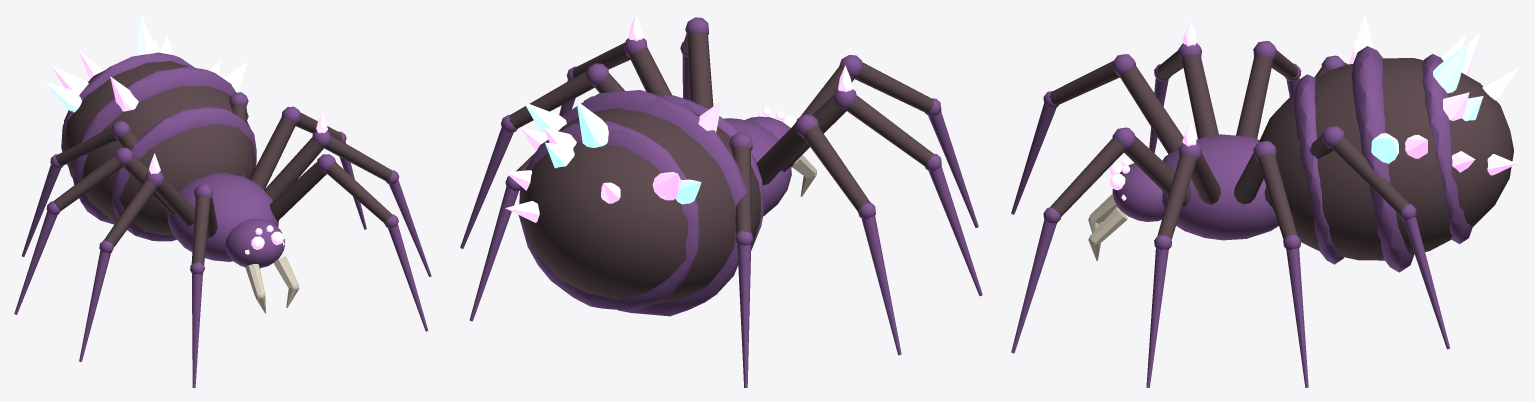
File: CrystalSpider.glb
3 views of the same model, side by side, from view 1: azimuth 30°, elevation 25°; view 2: azimuth 150°, elevation 25°; view 3: azimuth 270°, elevation 25° (orthographic). The views are drawn at different scales.
Visible parts, largest first — view 1: CrystalSpider; view 2: CrystalSpider; view 3: CrystalSpider.
Part boxes in pixels (x1,y1,x2,y2): CrystalSpider: (14, 14, 431, 387); CrystalSpider: (460, 14, 982, 387); CrystalSpider: (1011, 14, 1519, 387).
Bounding box in the file's own units: 1.27 × 0.7095 × 1.3.
